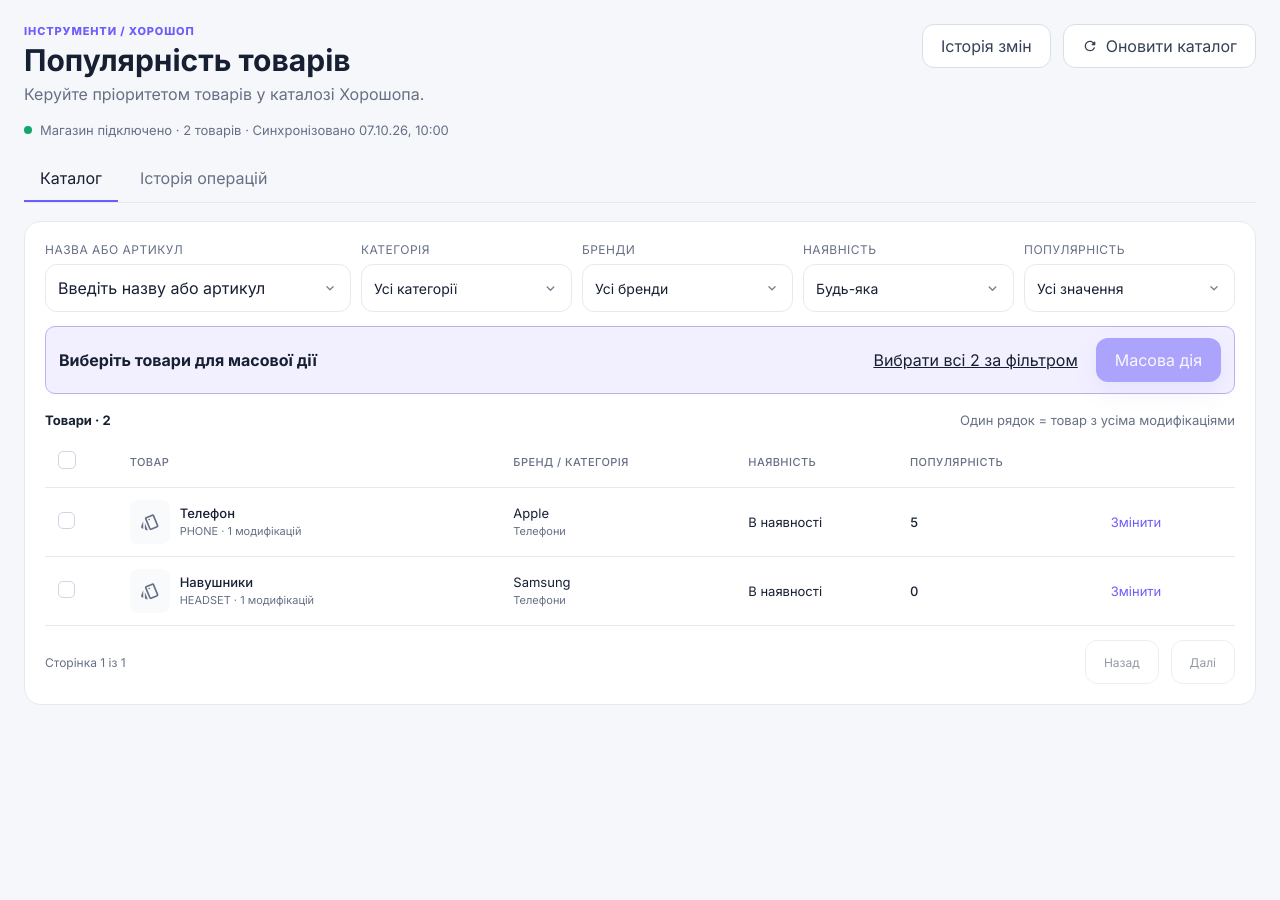
Test case: HoroshopPopularityPage › applies one search term from the popup and keeps edits unapplied when cancelled
Expected: the text "Телефон" is shown, x1=180 y1=505 x2=235 y2=521
Click the button with aria-label "Назва або артикул". click: (198, 288)
box: x1=45 y1=264 x2=351 y2=312
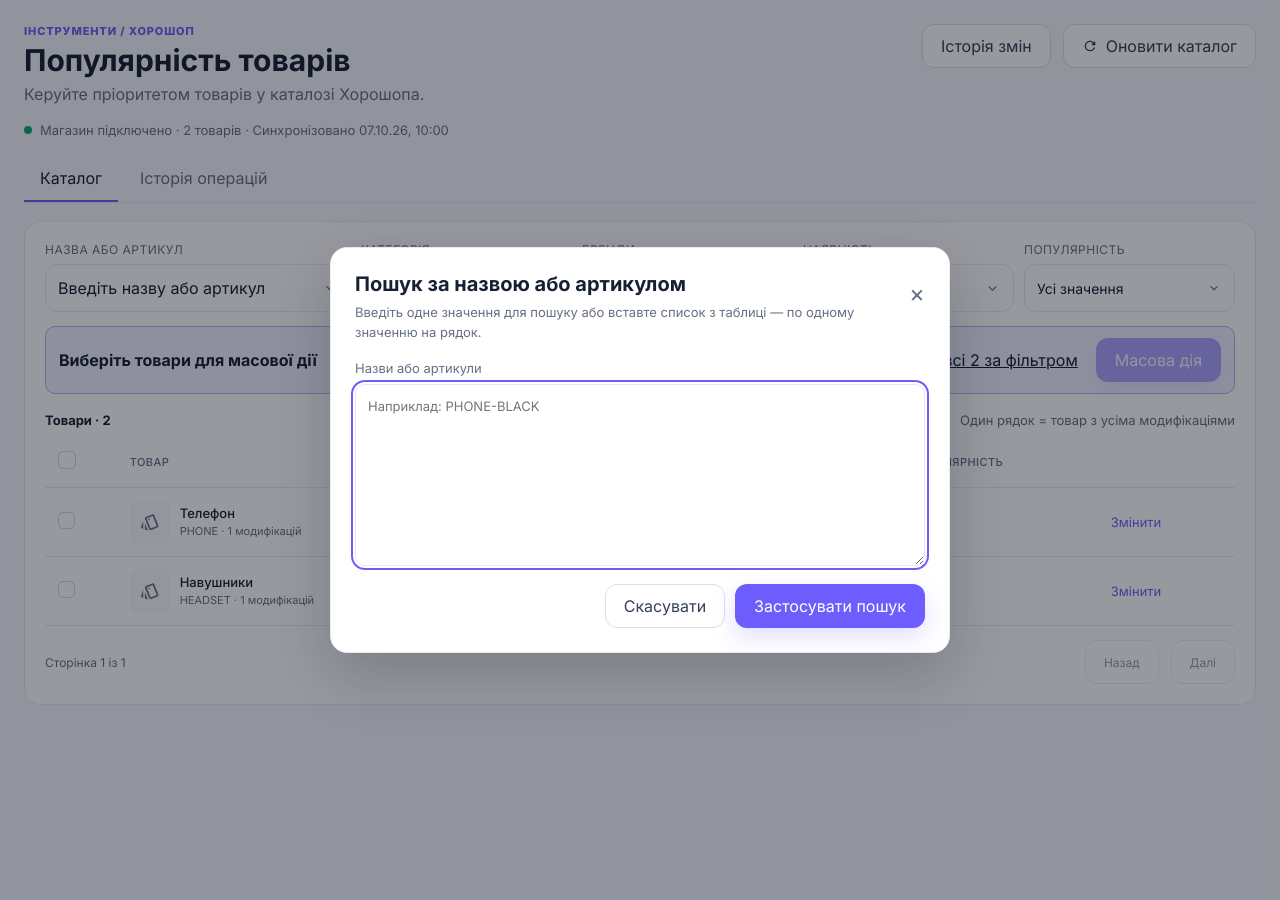
Type "PHONE" into the text box labelled "Назви або артикули". click: (640, 475)
box: x1=355 y1=384 x2=925 y2=566
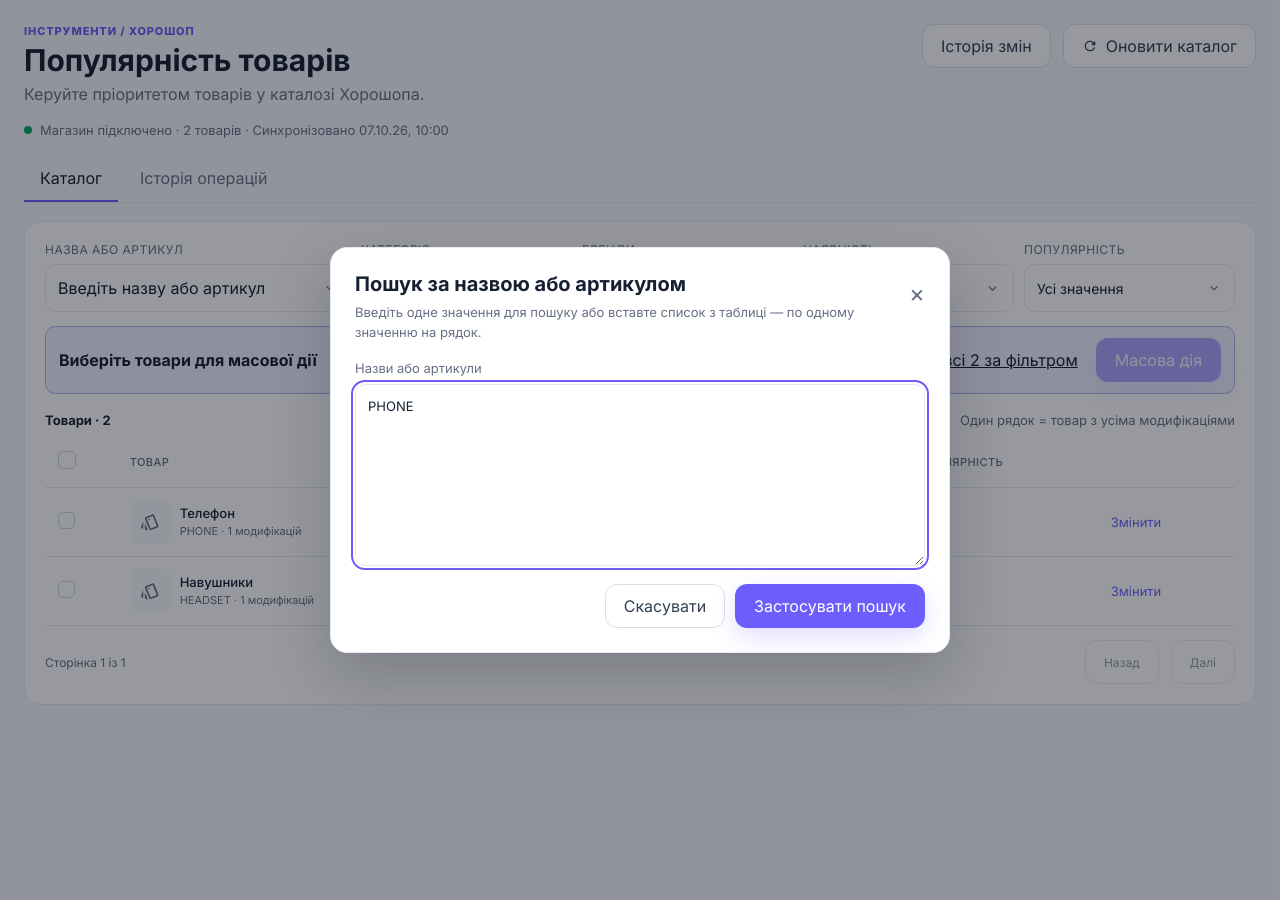
Click the button "Скасувати". click: (665, 606)
box: x1=605 y1=584 x2=725 y2=628
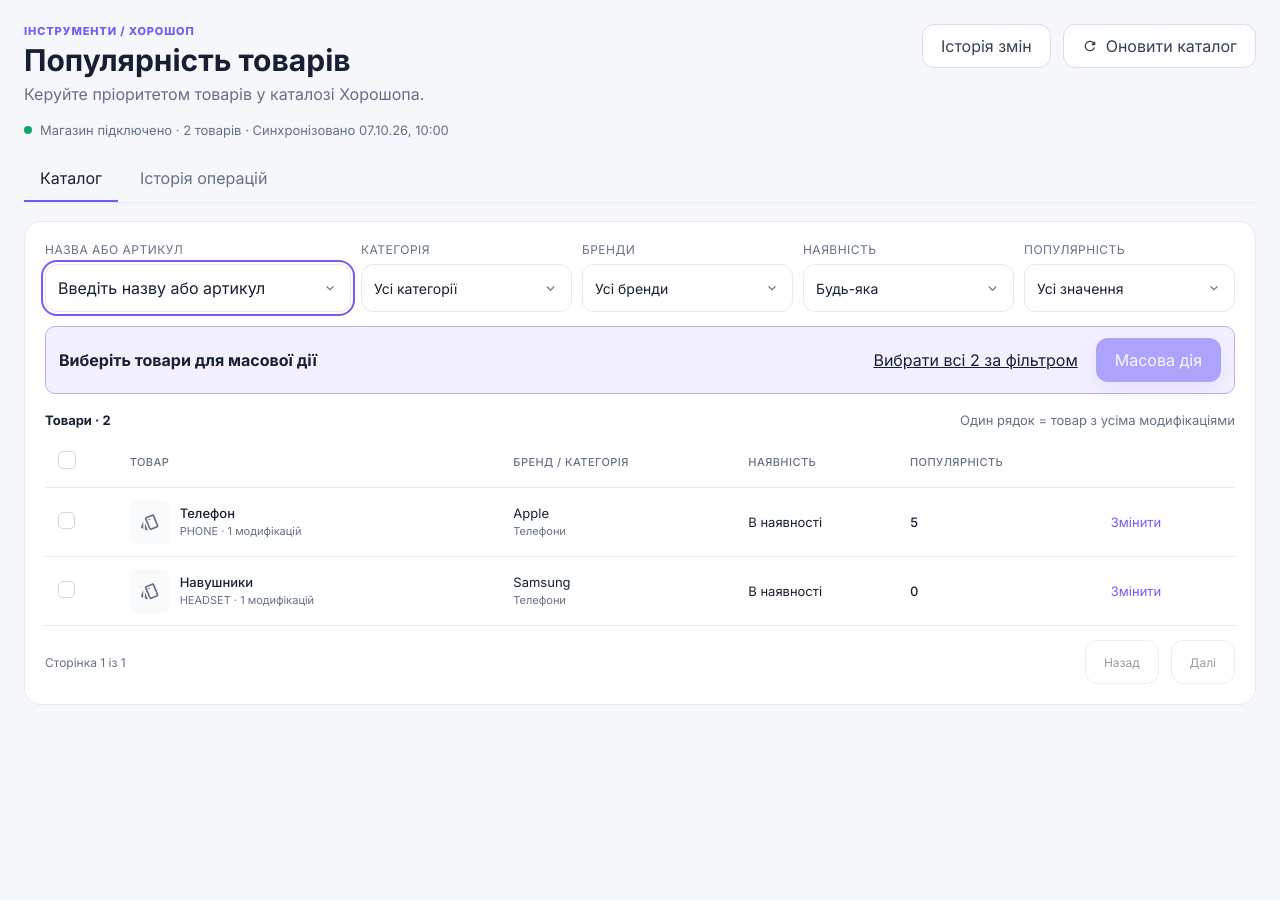
Click the button with aria-label "Назва або артикул". click: (198, 288)
box: x1=45 y1=264 x2=351 y2=312
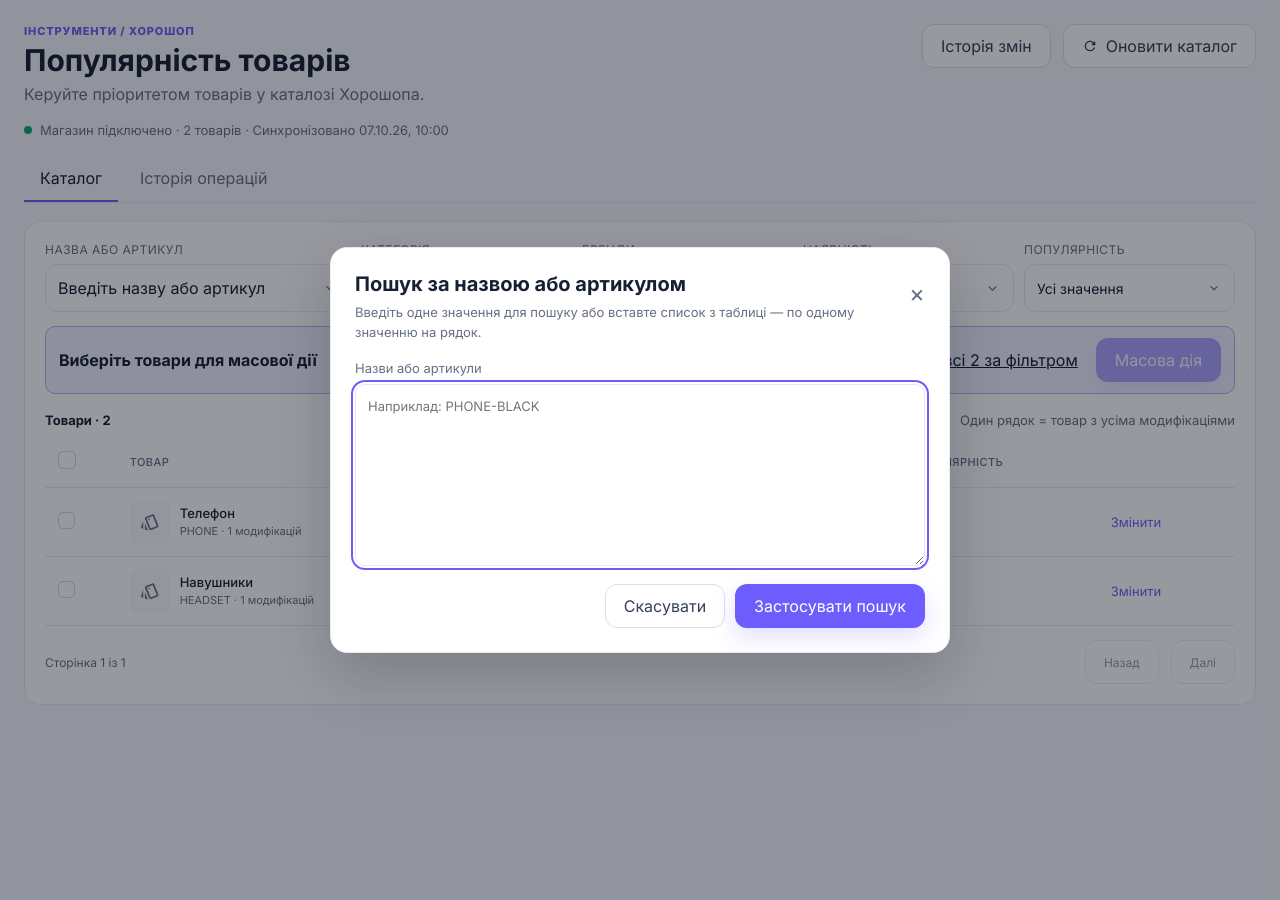
Type "PHONE" into the text box labelled "Назви або артикули". click: (640, 475)
box: x1=355 y1=384 x2=925 y2=566
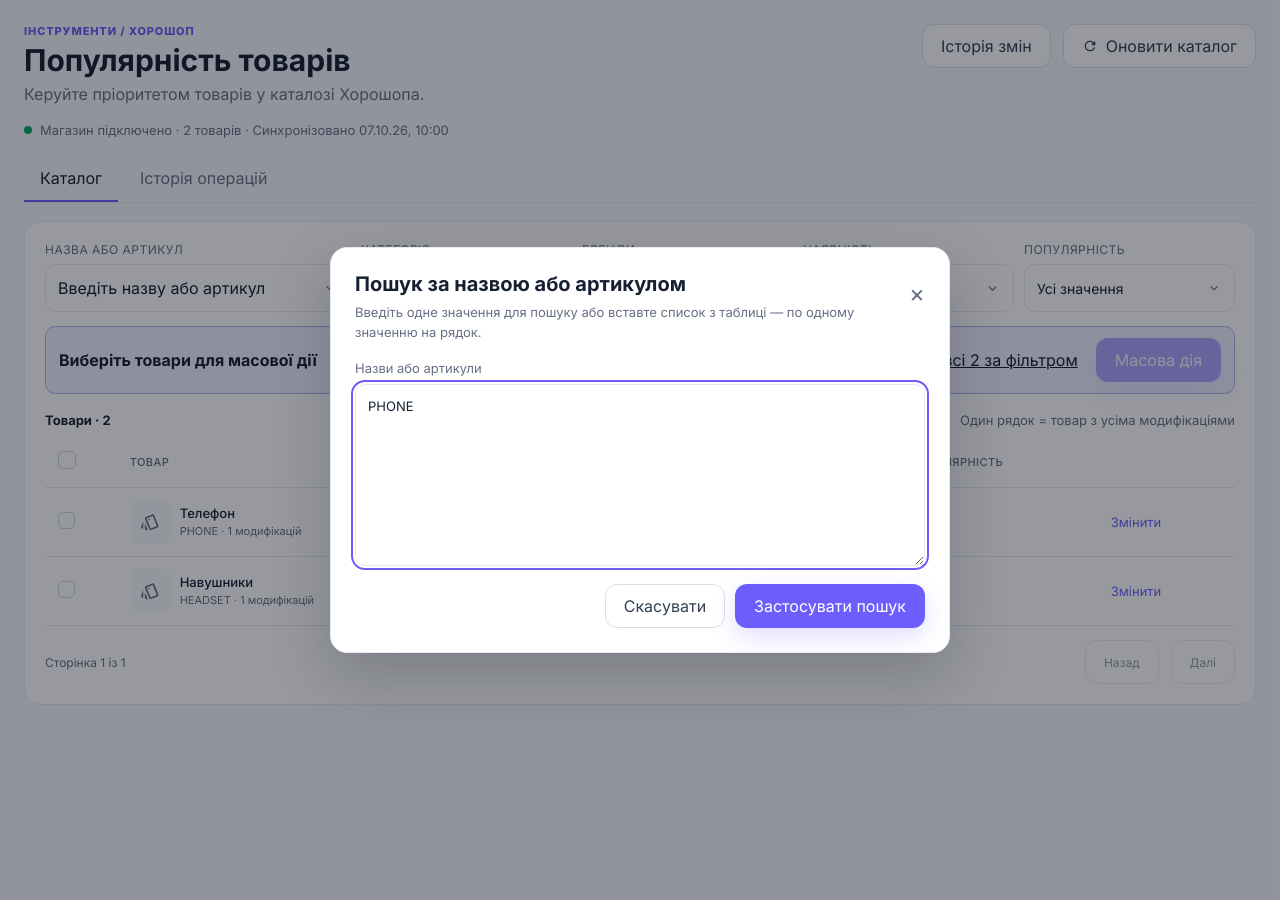
Click the button "Застосувати пошук". click: (830, 606)
box: x1=735 y1=584 x2=925 y2=628
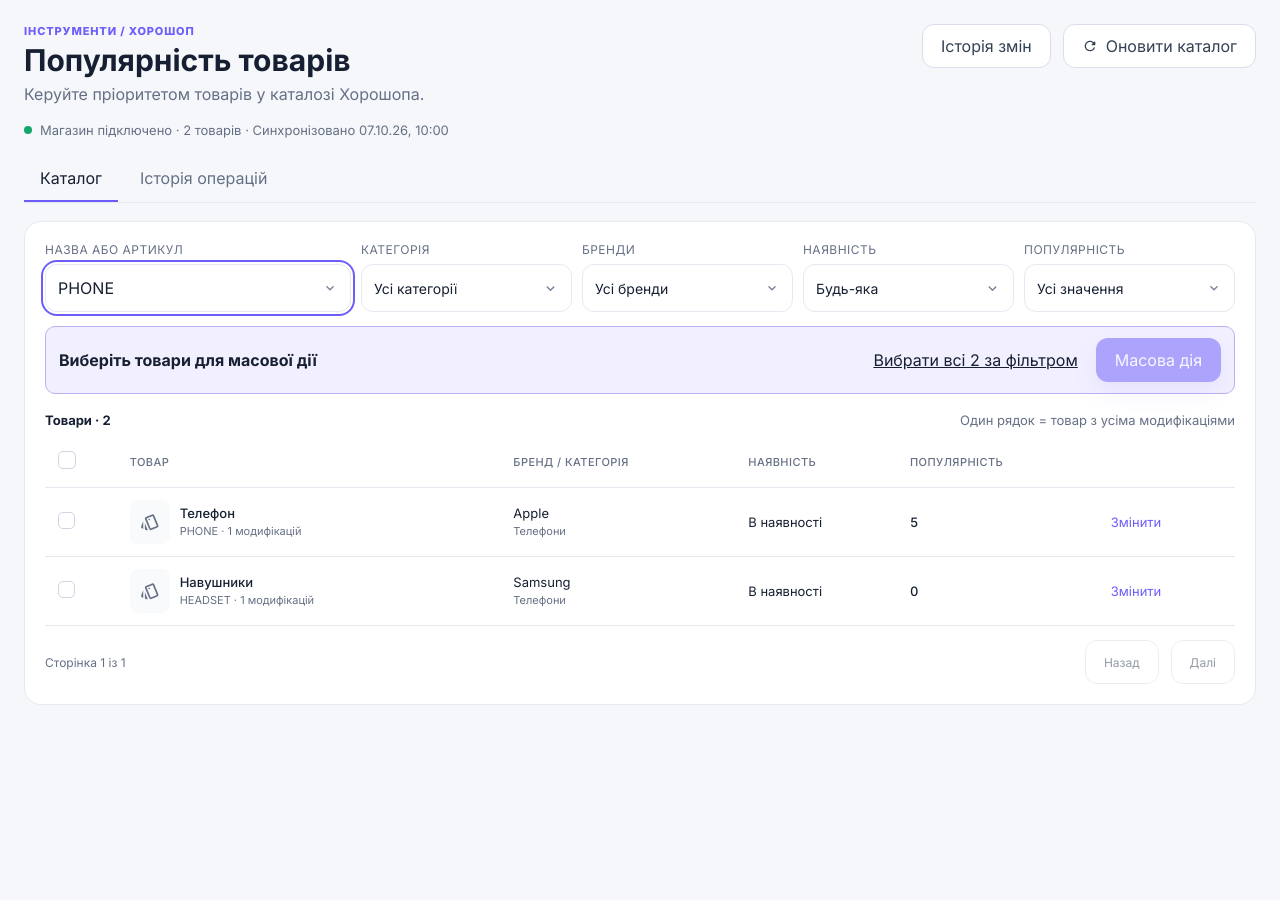
Now the button with aria-label "Назва або артикул" reads "PHONE", box x1=45 y1=264 x2=351 y2=312
